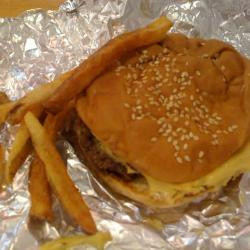burger: (84, 42, 250, 203)
fries: (18, 82, 97, 230)
